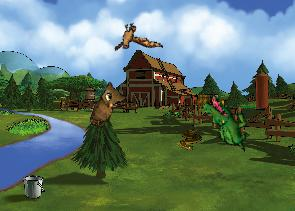crocodile: (192, 92, 261, 153)
eagle: (107, 14, 163, 64)
owl: (88, 80, 129, 133)
